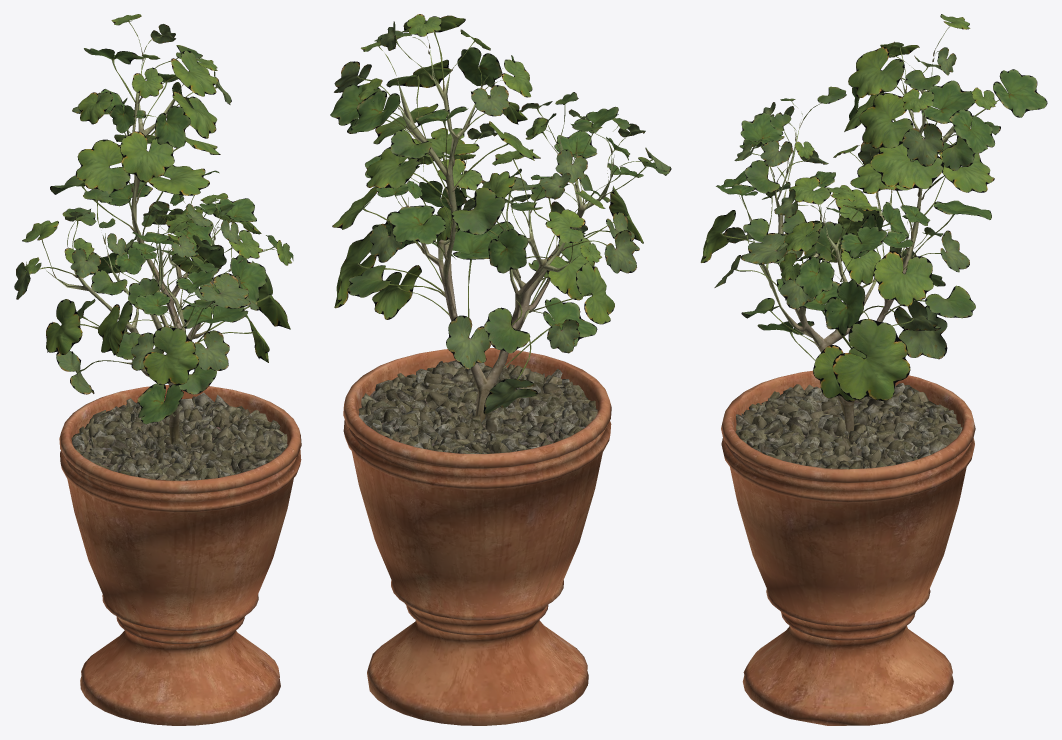
The model's file is ph-potted_plant_01.glb.
3 renders of one model, left to right at view 1: azimuth 30°, elevation 25°; view 2: azimuth 150°, elevation 25°; view 3: azimuth 270°, elevation 25°, orthographic. The views are drawn at different scales.
Visible parts, largest first — view 1: potted_plant_01_stem, potted_plant_01_leaves; view 2: potted_plant_01_stem, potted_plant_01_leaves; view 3: potted_plant_01_stem, potted_plant_01_leaves.
Part boxes in pixels (x1,y1,x2,y2): potted_plant_01_stem: (54, 57, 301, 725); potted_plant_01_leaves: (14, 14, 293, 424); potted_plant_01_stem: (343, 50, 612, 725); potted_plant_01_leaves: (330, 14, 671, 414); potted_plant_01_stem: (721, 59, 975, 725); potted_plant_01_leaves: (700, 14, 1047, 401).
Size of the model in its own units: 0.5874 by 1.34 by 0.6336.
2 materials, 2 textured.
